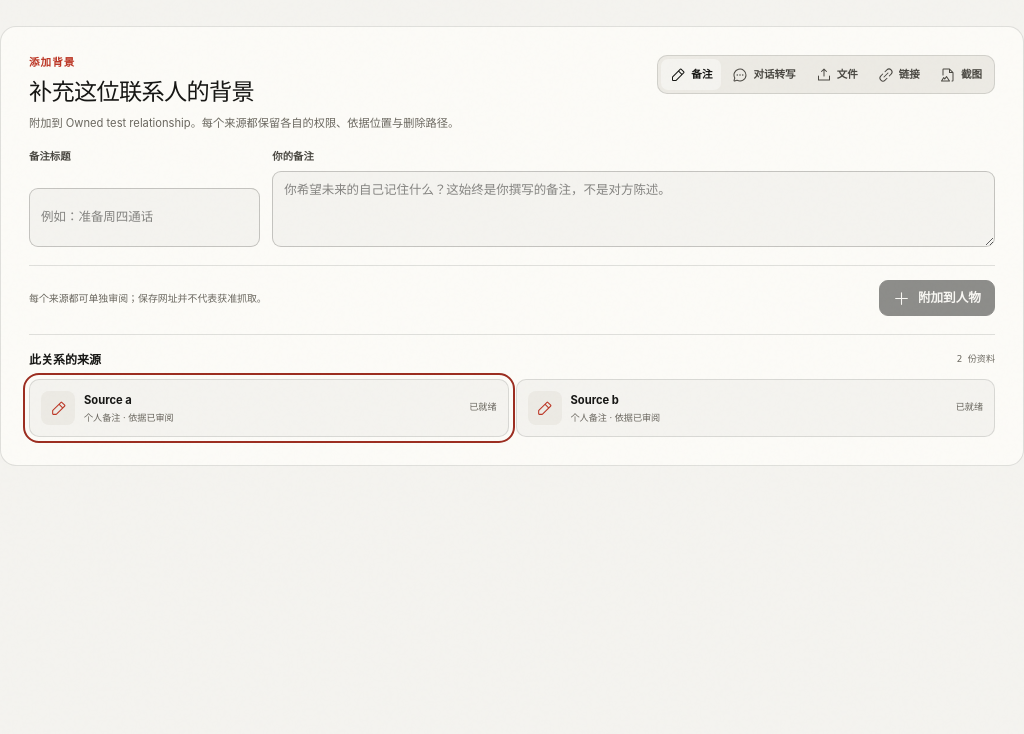
does not apply obsolete public-source research errors or leave the new source busy
The width and height of the screenshot is (1024, 734).
Click the button "Source a 个人备注 · 依据已审阅 已就绪".
click(58, 408)  # box [29,379,508,437]
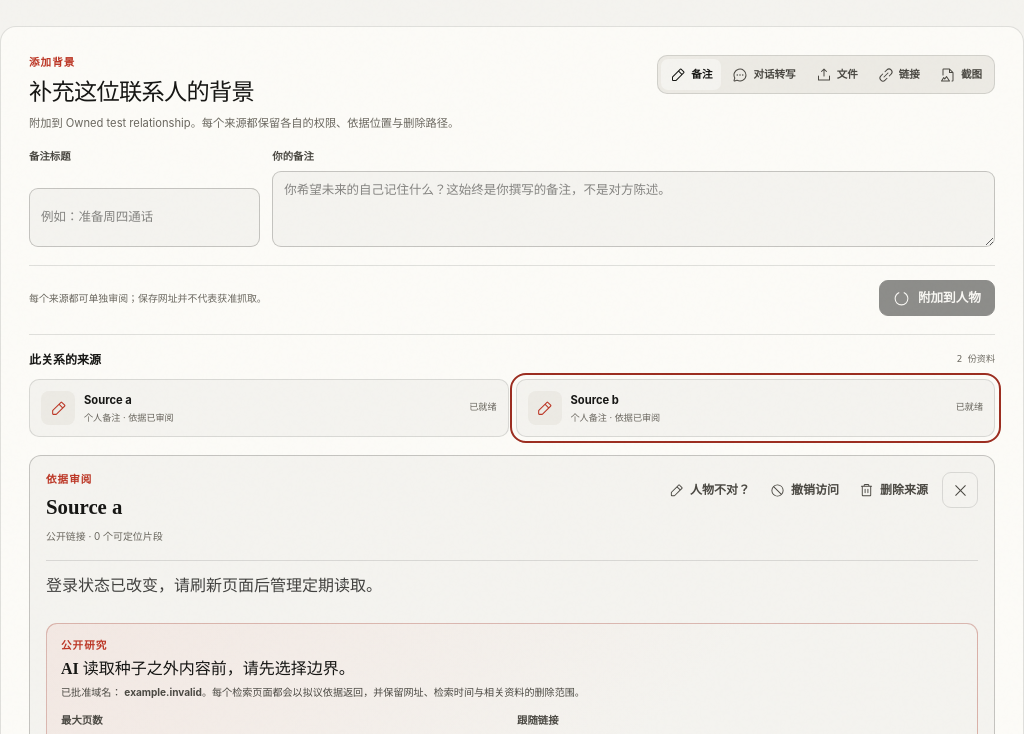
Click the button "Source b 个人备注 · 依据已审阅 已就绪".
click(544, 408)  # box [516,379,995,437]
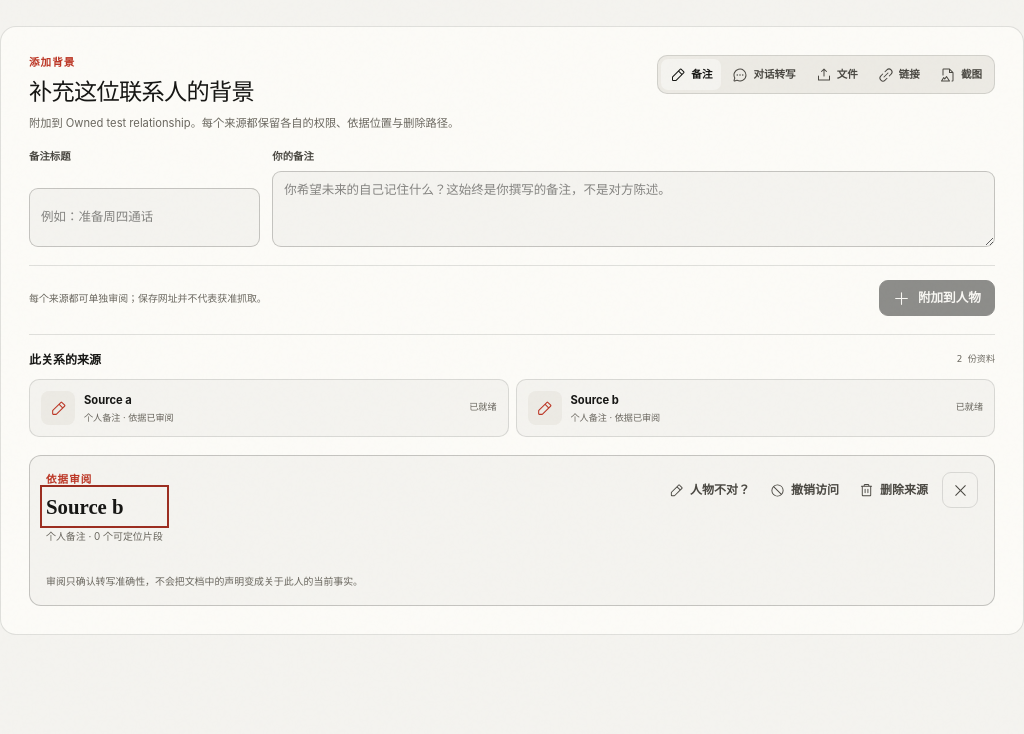
Expected: the text box labelled "你的备注" is enabled, [272,171,995,247]
Now the heading "Source b" is shown, box [46,495,124,518]
